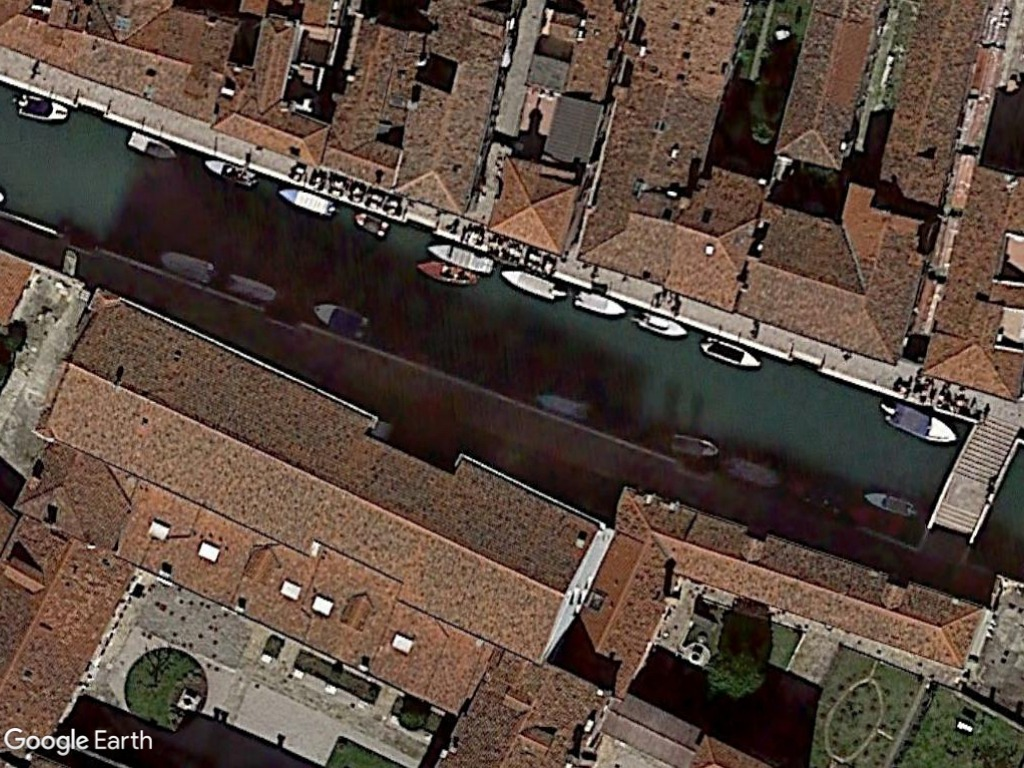boat: (876, 395, 960, 449), (419, 238, 498, 277), (310, 298, 374, 345), (697, 332, 765, 374), (154, 246, 217, 286), (500, 265, 563, 304), (273, 184, 339, 220), (666, 427, 726, 466), (567, 285, 628, 322), (123, 127, 182, 165), (13, 89, 73, 126), (201, 156, 261, 191), (861, 487, 922, 521), (635, 308, 689, 344), (349, 209, 393, 240)
